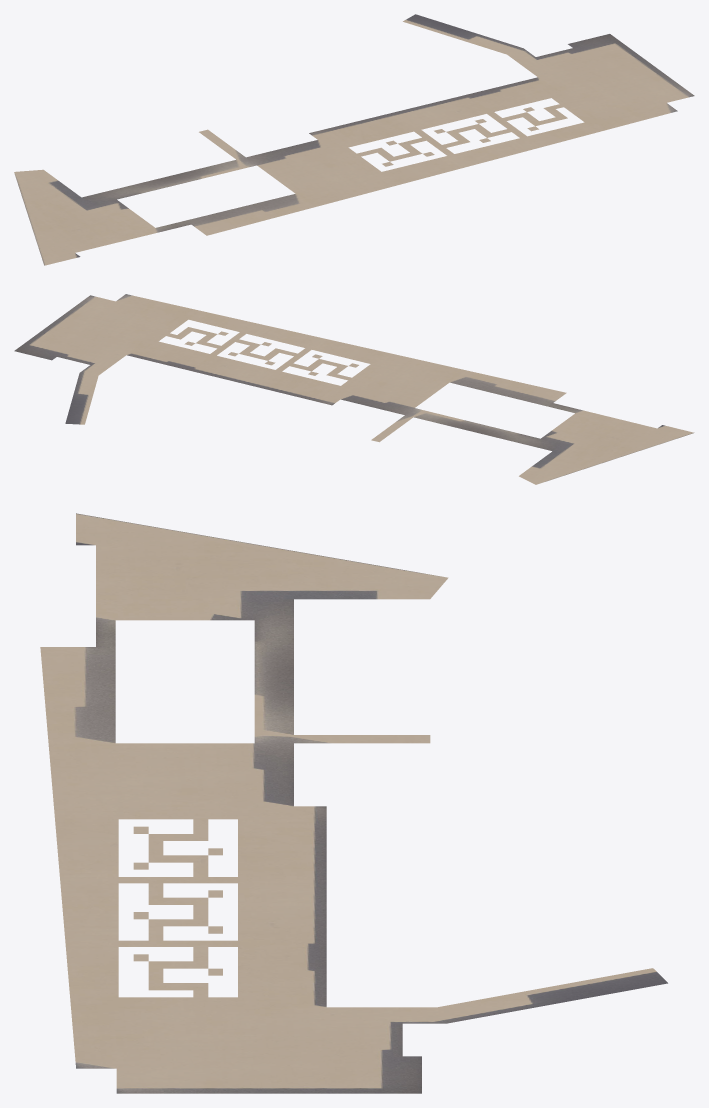
The model's file is Asfalto cucinato 2K carta beige.glb.
3 views of the same model, one above another, from view 1: azimuth 30°, elevation 25°; view 2: azimuth 150°, elevation 25°; view 3: azimuth 270°, elevation 25° (orthographic). The views are drawn at different scales.
Visible parts, largest first — view 1: Obj_000001_1; view 2: Obj_000001_1; view 3: Obj_000001_1.
Boxes of the visible parts, bbox=[...] form: Obj_000001_1: bbox=[14, 14, 694, 265]; Obj_000001_1: bbox=[14, 294, 694, 484]; Obj_000001_1: bbox=[40, 513, 667, 1093].
Bounding box in the file's own units: 230 × 1.77e-05 × 105.
1 material, 1 textured.
